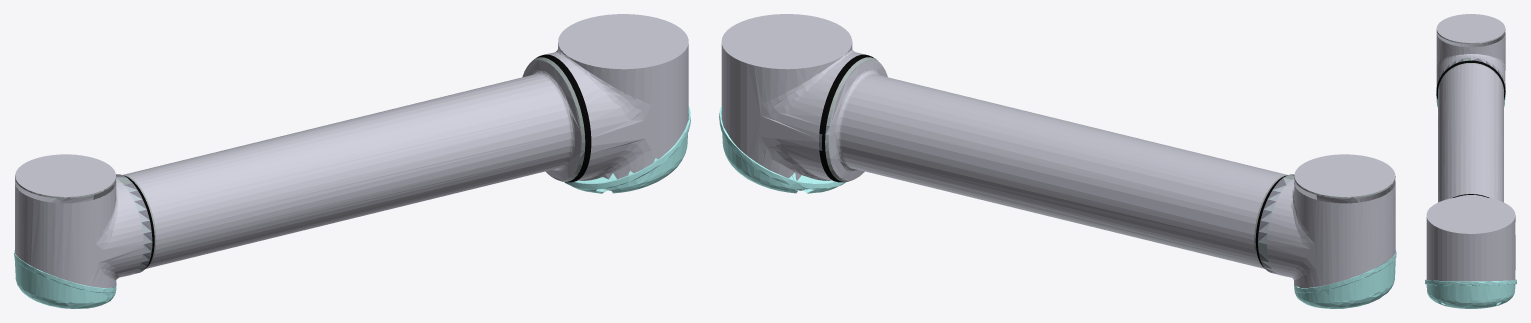
3 renders of one model, left to right at view 1: azimuth 30°, elevation 25°; view 2: azimuth 150°, elevation 25°; view 3: azimuth 270°, elevation 25°, orthographic. The views are drawn at different scales.
Visible parts, largest first — view 1: UR10Link3; view 2: UR10Link3; view 3: UR10Link3.
Part boxes in pixels (box(x1,y1,x2,y2)): UR10Link3: box(14, 14, 690, 308); UR10Link3: box(719, 14, 1396, 308); UR10Link3: box(1425, 14, 1516, 308).
Bounding box in the file's own units: 0.6776 × 0.1199 × 0.1298.
